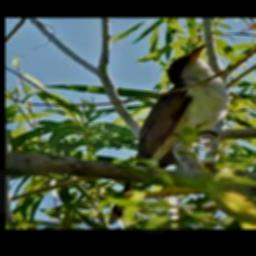Cuckoo: (106, 44, 228, 225)
